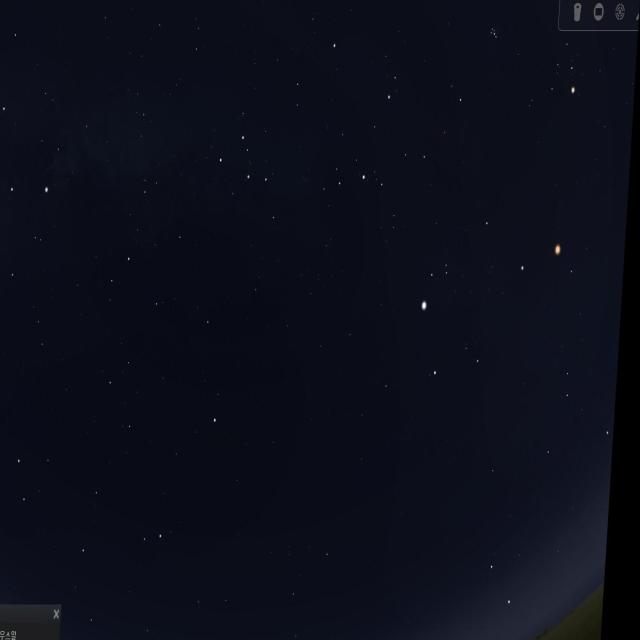cassiopeia: (213, 114, 291, 228)
pleiades: (484, 16, 508, 52)
